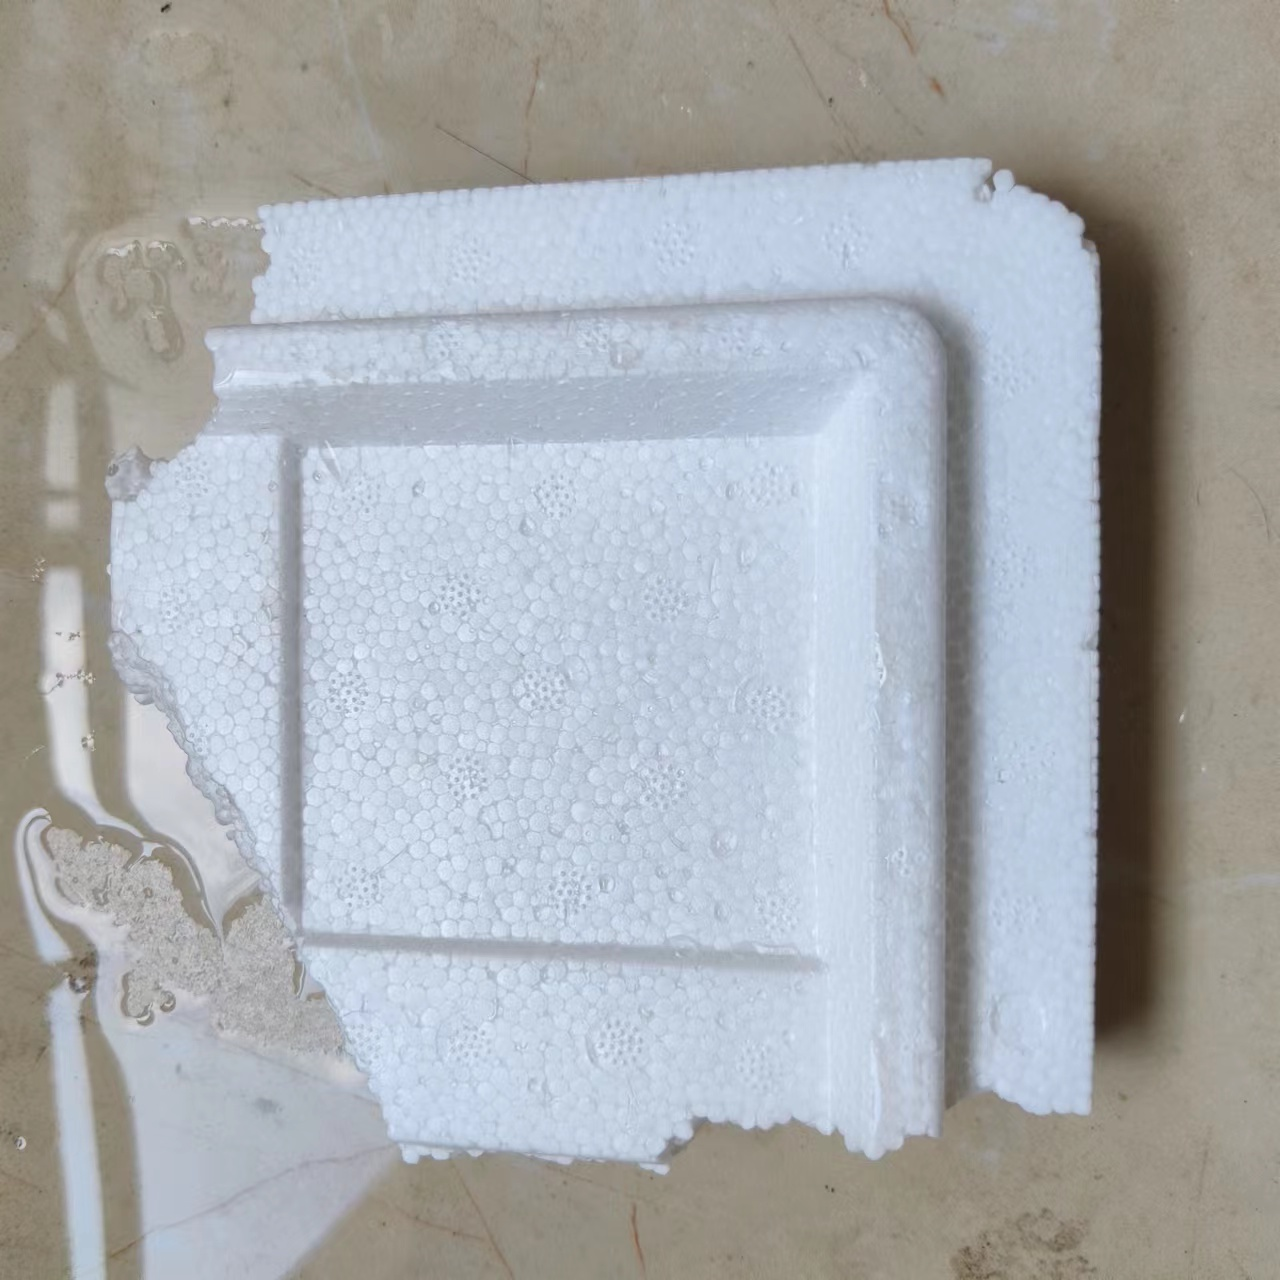5/可回收垃圾/泡沫: (110, 155, 1104, 1172)
